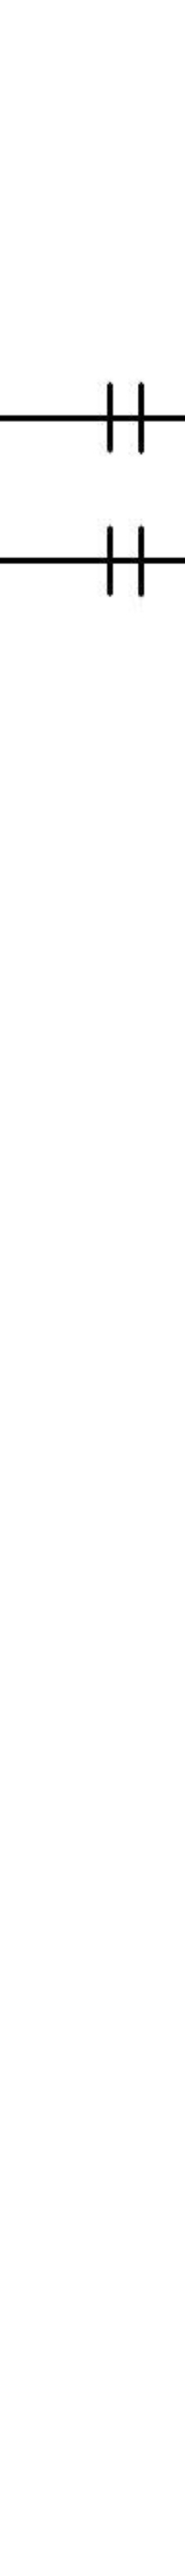115_buffer: (106, 524, 146, 598), (106, 381, 144, 455)
